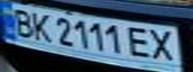1: (103, 21, 127, 55), (84, 20, 106, 52), (69, 17, 90, 50)
2: (51, 15, 75, 47)
B: (6, 6, 36, 38)
E: (124, 25, 154, 58)
K: (27, 10, 54, 43)
X: (145, 26, 181, 62)
